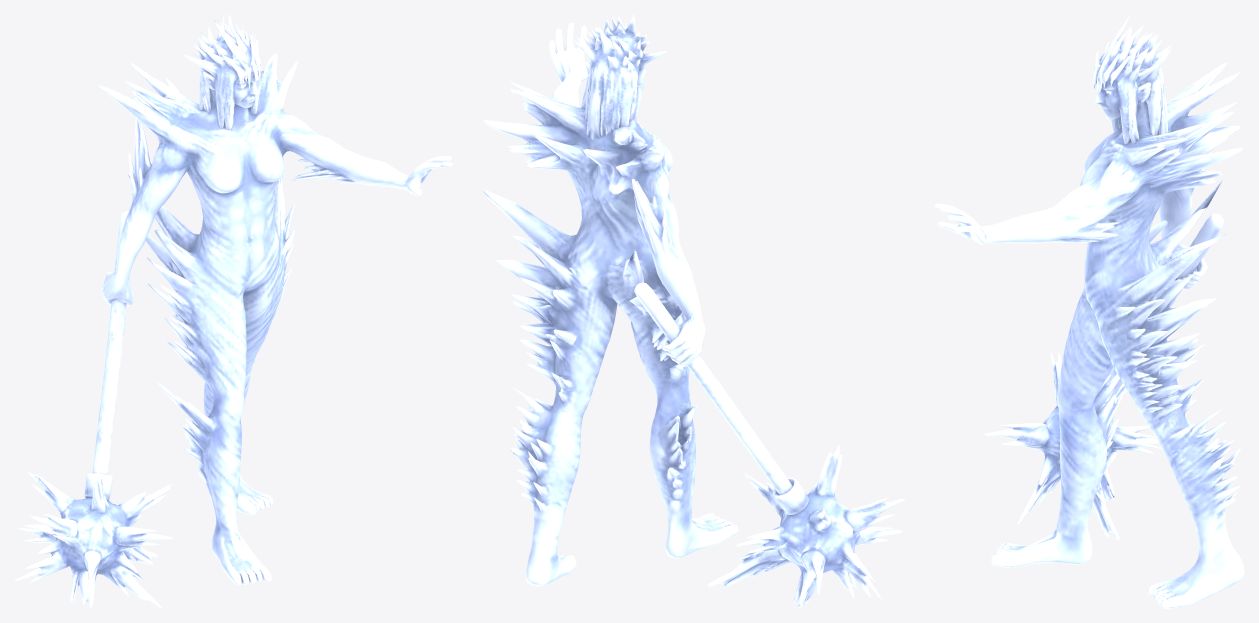
Rendered from MZ4250 - Auril_2nd_alt.glb.
3 renders of one model, left to right at view 1: azimuth 30°, elevation 25°; view 2: azimuth 150°, elevation 25°; view 3: azimuth 270°, elevation 25°, orthographic. The views are drawn at different scales.
Parts seen in each view (by area): view 1: Morningstar.001; view 2: Morningstar.001; view 3: Morningstar.001.
Boxes of the visible parts, bbox=[...] form: Morningstar.001: bbox=[14, 14, 452, 608]; Morningstar.001: bbox=[481, 14, 904, 608]; Morningstar.001: bbox=[934, 15, 1244, 608].
Size of the model in its own units: 127 by 170 by 84.17.
1 material, 1 textured.
